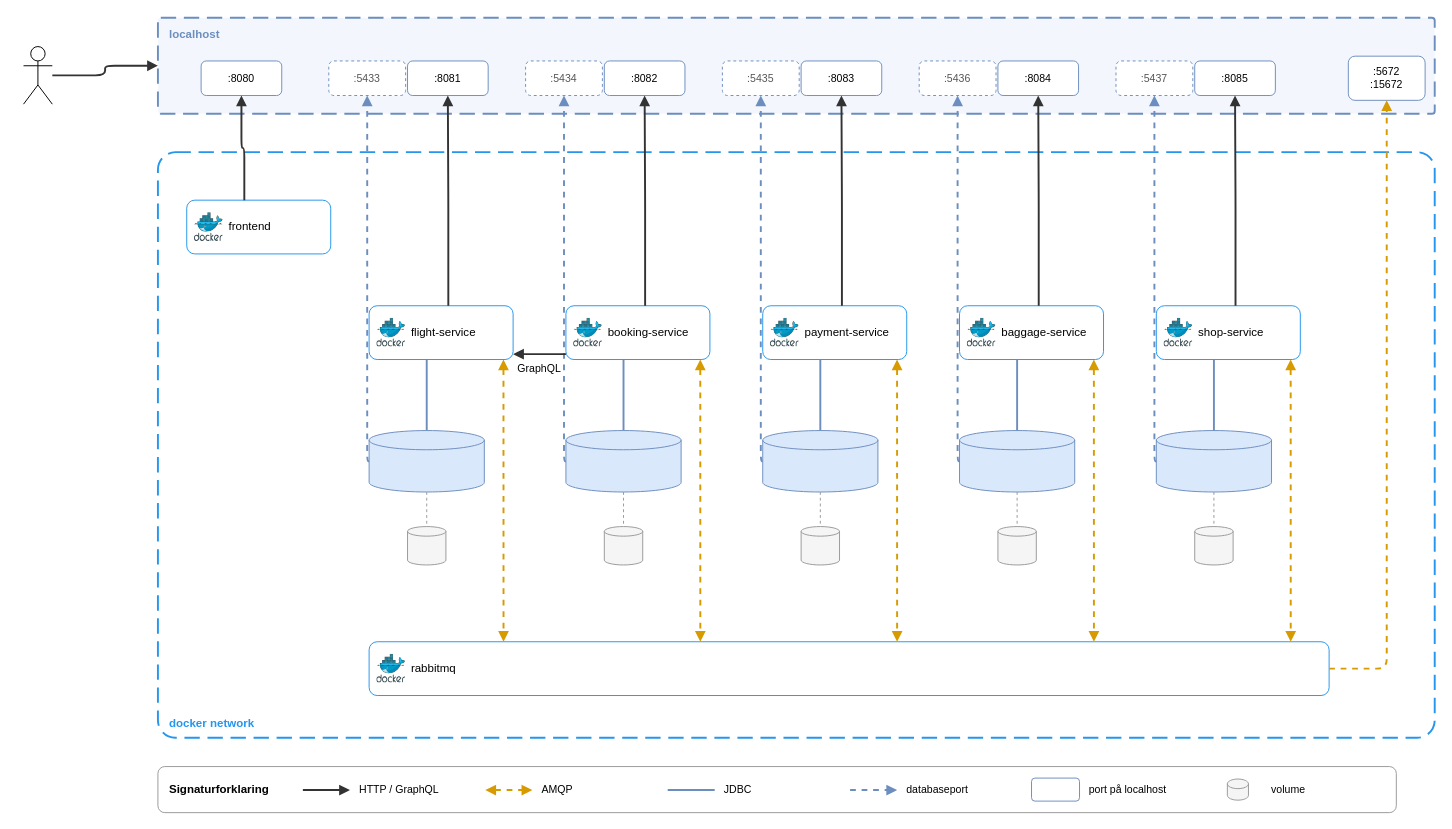
Image size: 1452x829. Some labels were removed from this diagram. The shapes that lost their labels are listed below. From the top down, each one's centre as x and y in pixels, then its label:
the point at 37,75: Browser
the point at 426,461: flight-db
the point at 623,461: booking-db
the point at 820,461: payment-db
the point at 1017,461: baggage-db
the point at 1213,461: shop-db
